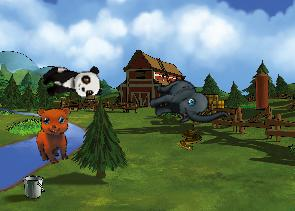bear: (29, 101, 82, 167)
elephant: (144, 65, 229, 143)
panda: (41, 65, 102, 99)
